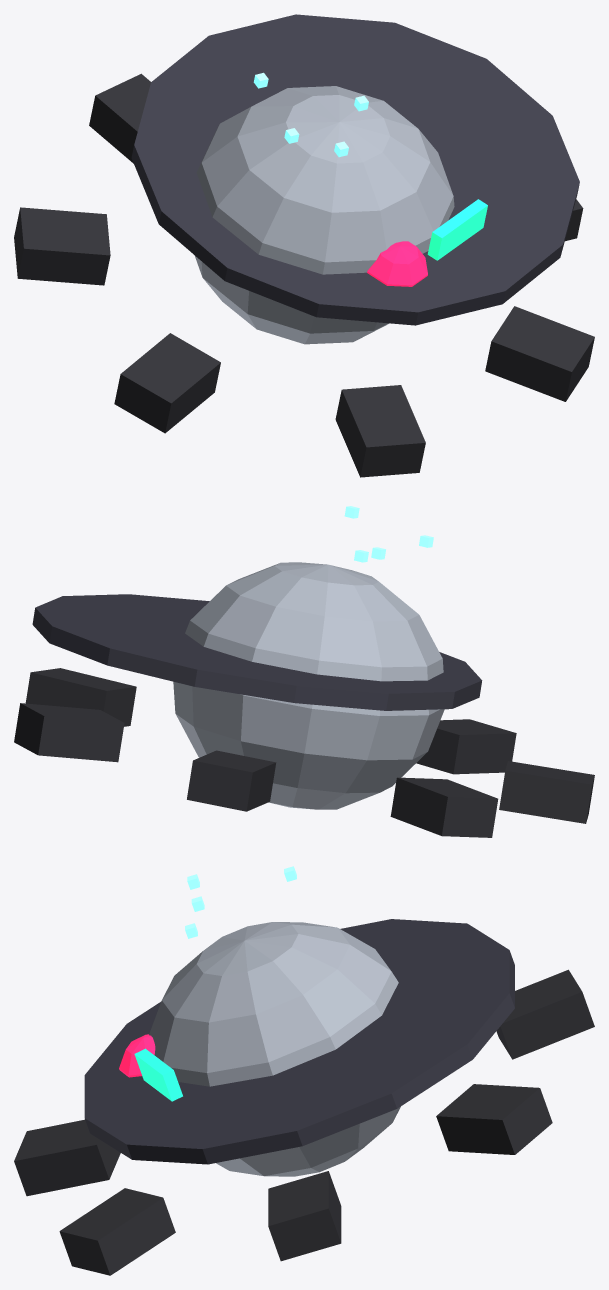
The model's file is drone_wreck.glb.
3 renders of one model, top to bottom at view 1: azimuth 30°, elevation 25°; view 2: azimuth 150°, elevation 25°; view 3: azimuth 270°, elevation 25°, orthographic.
Parts seen in each view (by area): view 1: drone_wreck; view 2: drone_wreck; view 3: drone_wreck.
Part boxes in pixels (left/top/right/bottom): drone_wreck: left=14, top=14, right=594, bottom=477; drone_wreck: left=14, top=506, right=594, bottom=837; drone_wreck: left=14, top=866, right=594, bottom=1275.
Bounding box in the file's own units: 2.29 × 1.36 × 2.28.
